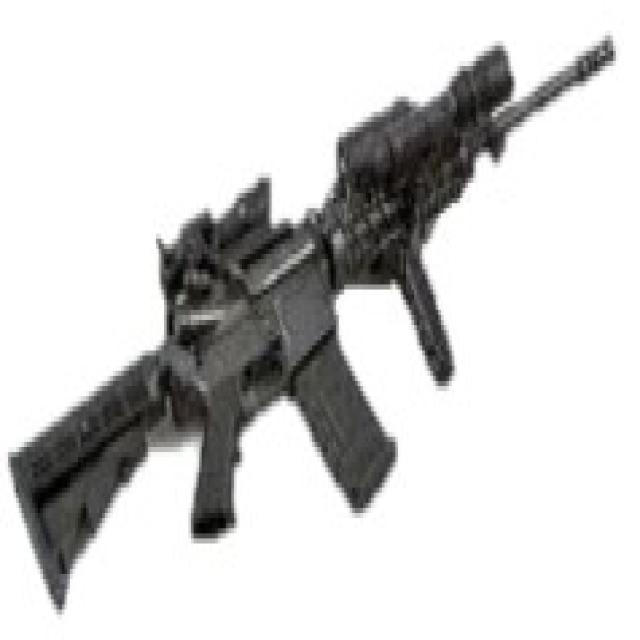rifle: (8, 20, 620, 626)
